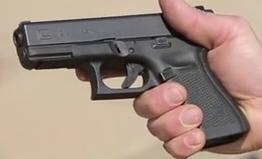gun: (1, 1, 262, 159)
